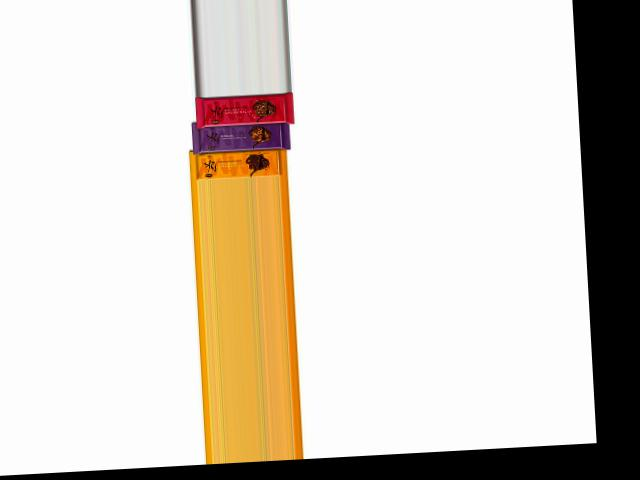chocolate: (190, 90, 300, 128)
